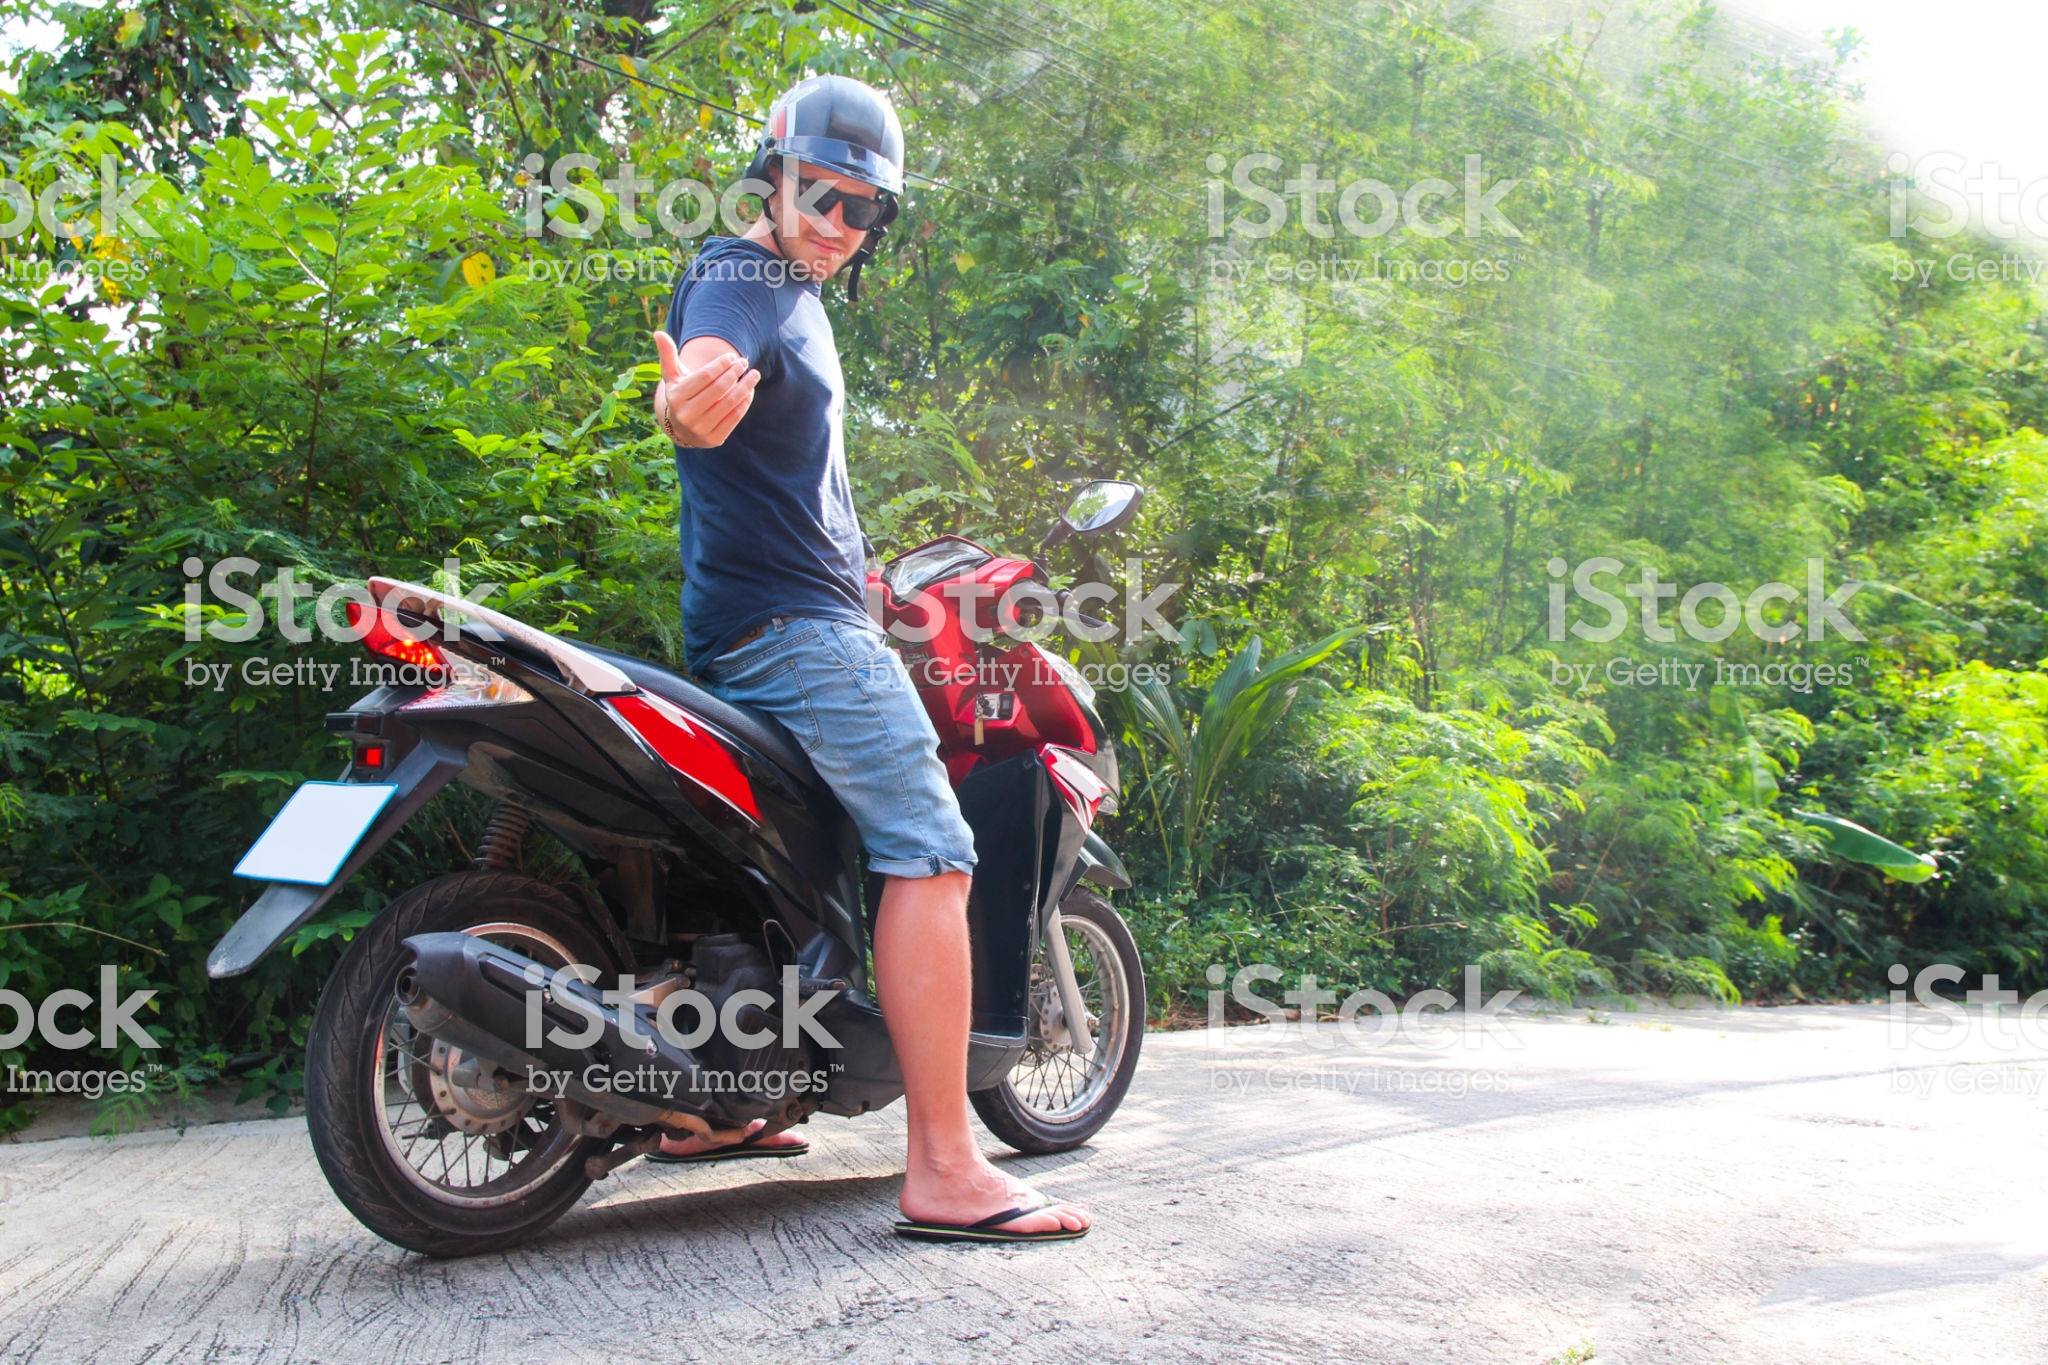helmet: (735, 75, 927, 187)
